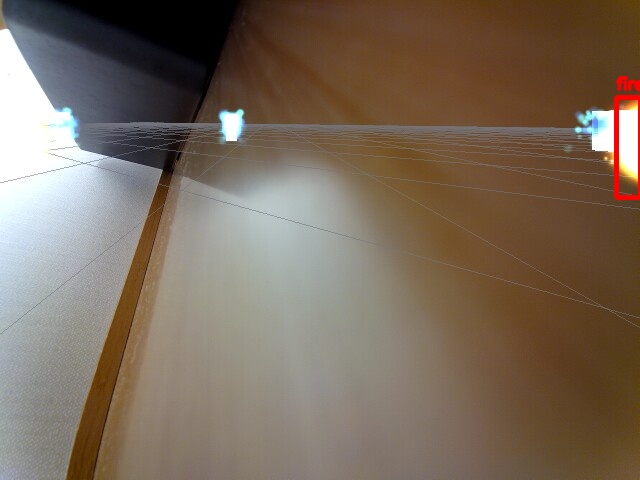firebig: (616, 97, 640, 197)
